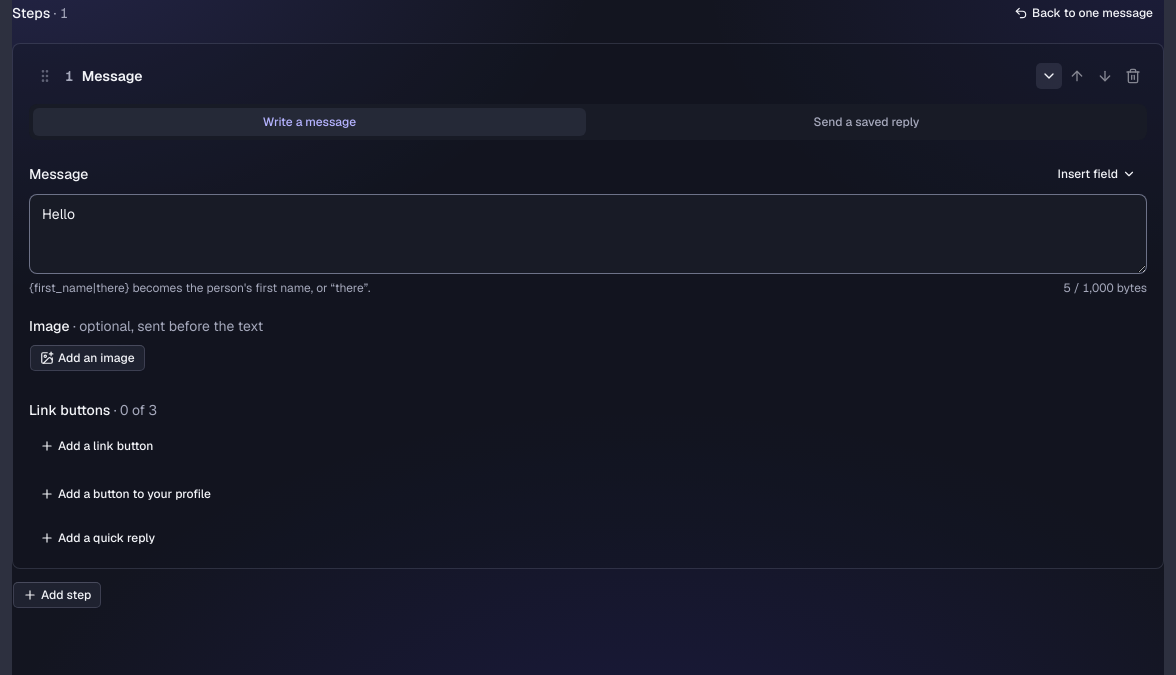
Test: the flow editor (GR-13) › a branch has its rules and Otherwise as indented groups with their own steps
The width and height of the screenshot is (1176, 675).
Click the button "Add step".
click(57, 595)  # box [12,581,102,609]
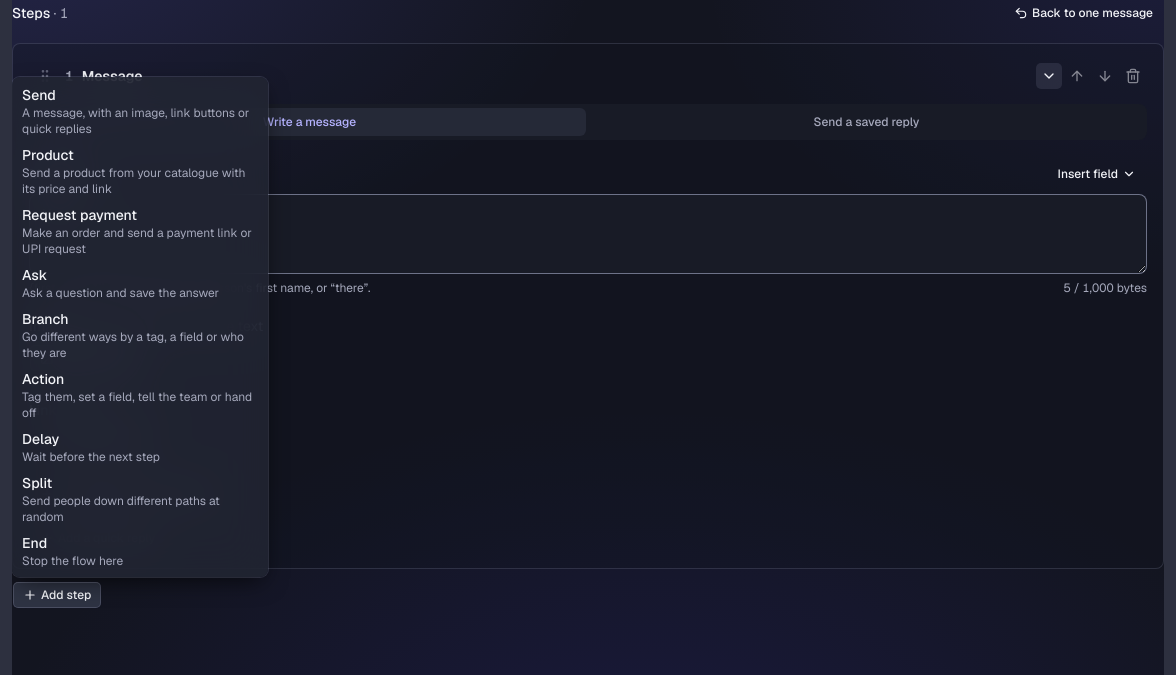
Click the menu item "Branch Go different ways by a tag, a field or who they are".
click(140, 335)  # box [16,305,264,365]
(page scrolled)
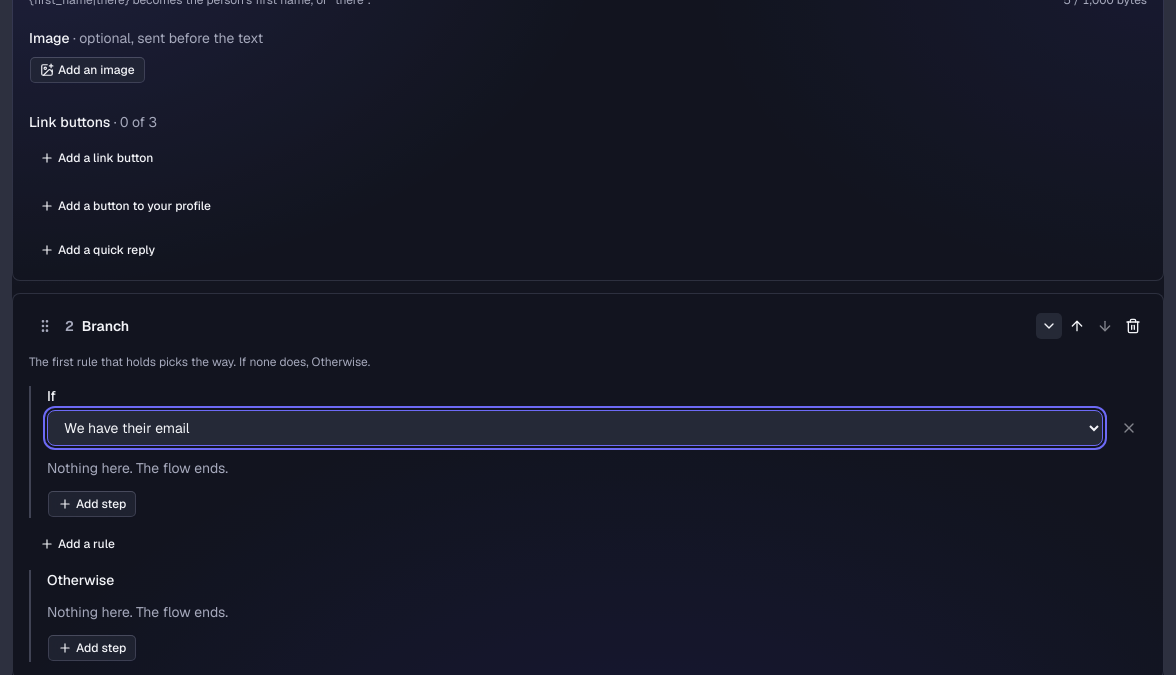
Expected: the dropdown named "Rule 1 of step 2: check" shows "We have their email", [47,410,1103,446]
Expected: the element named "Otherwise of step 2" is shown, [29,570,1147,662]
Click the button with aria-label "Add step to Rule 1 of step 2".
click(92, 504)  # box [47,490,137,518]
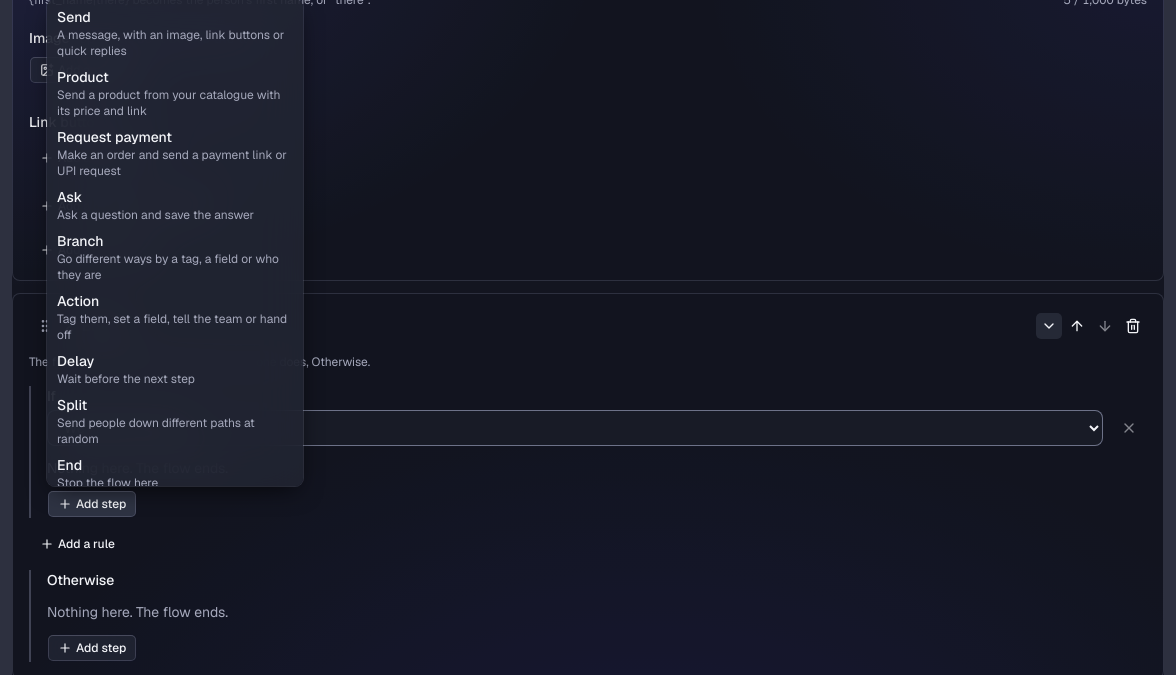
Click the menu item "Send A message, with an image, link buttons or quick replies".
click(175, 33)  # box [51,3,299,63]
(page scrolled)
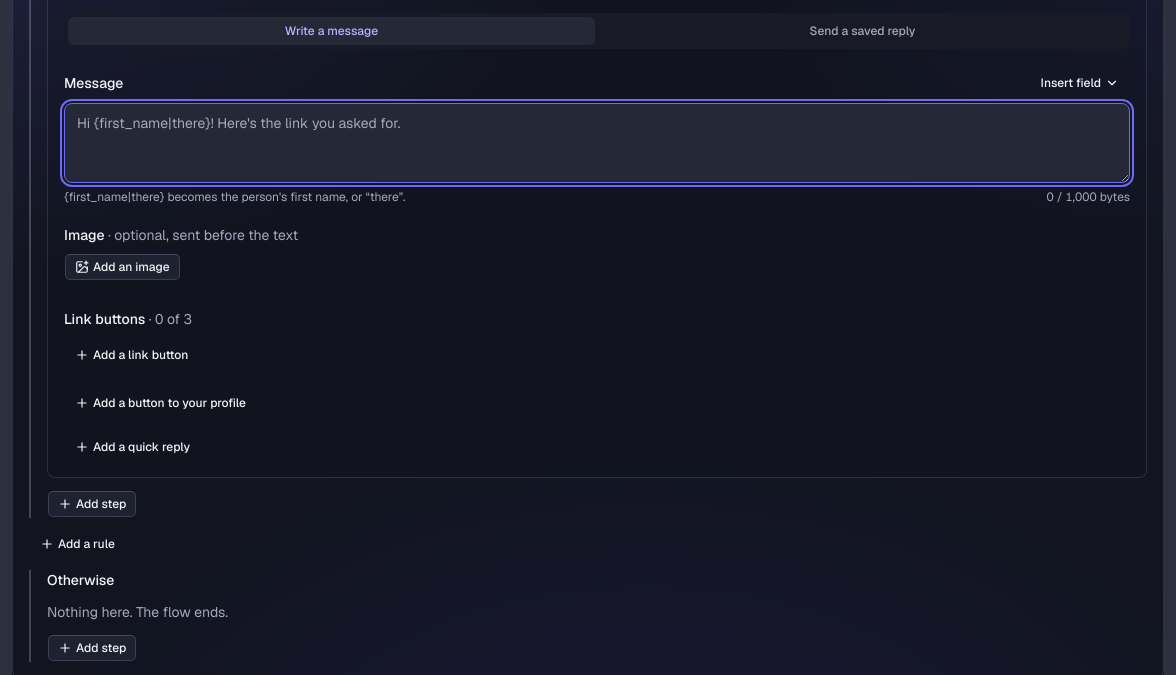
Click the button "Add a rule".
click(77, 544)  # box [29,530,126,558]
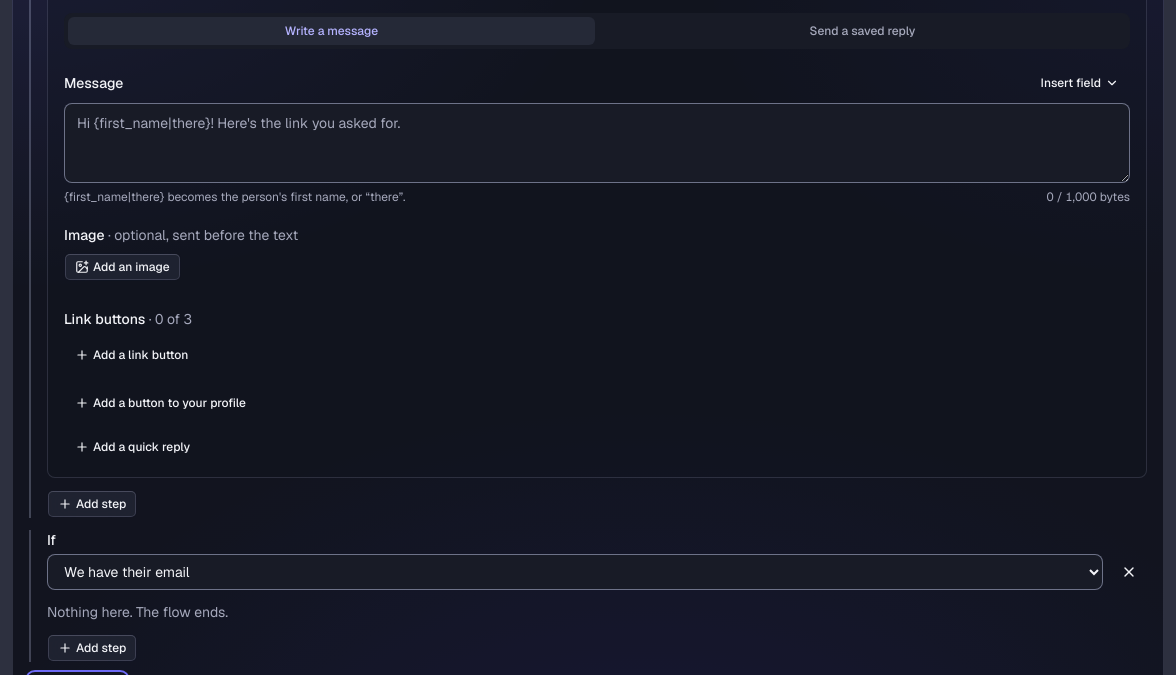
Expected: the element named "Rule 2 of step 2" is shown, [29,530,1147,662]
Select "Has a tag" in the dropdown named "Rule 2 of step 2: check" at (575, 572), box [47,554,1103,590]
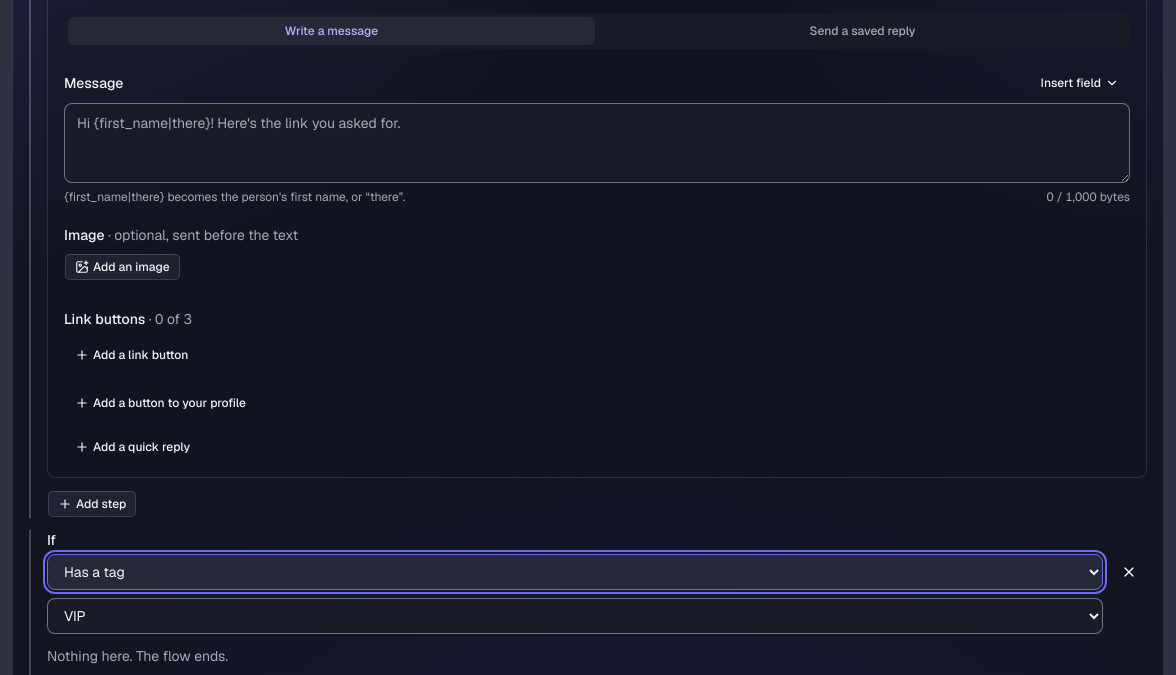
Expected: the 2nd dropdown named "Rule 2 of step 2: tag" is shown, [47,598,1103,634]
